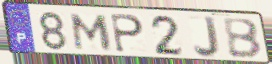2: (151, 14, 185, 57)
8: (36, 10, 70, 52)
B: (221, 18, 264, 61)
J: (192, 15, 222, 60)
M: (70, 13, 114, 52)
P: (109, 12, 146, 55)
